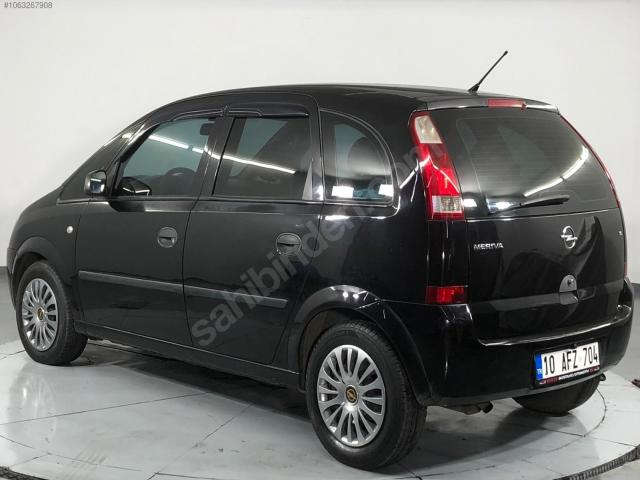plaka: (534, 342, 599, 385)
